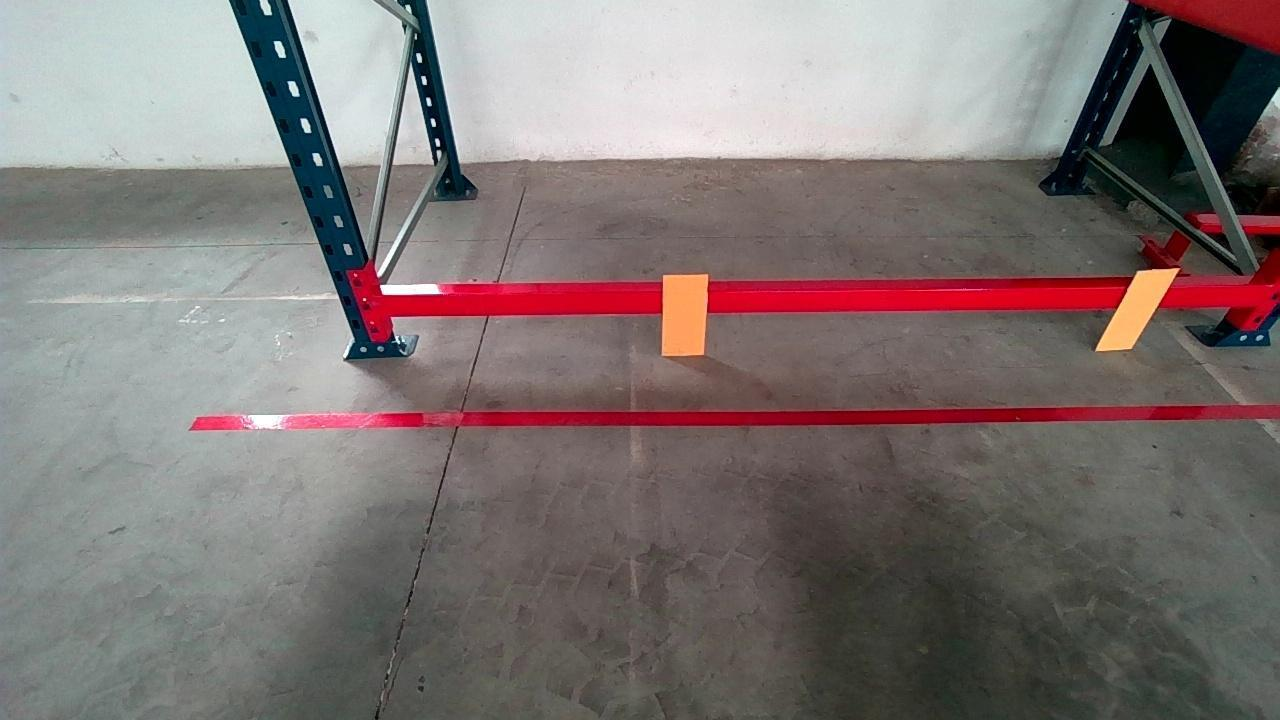h_rack: (382, 289, 1273, 315)
orange_strip: (1096, 268, 1179, 348), (661, 274, 708, 354)
red_line: (189, 404, 1280, 431)
